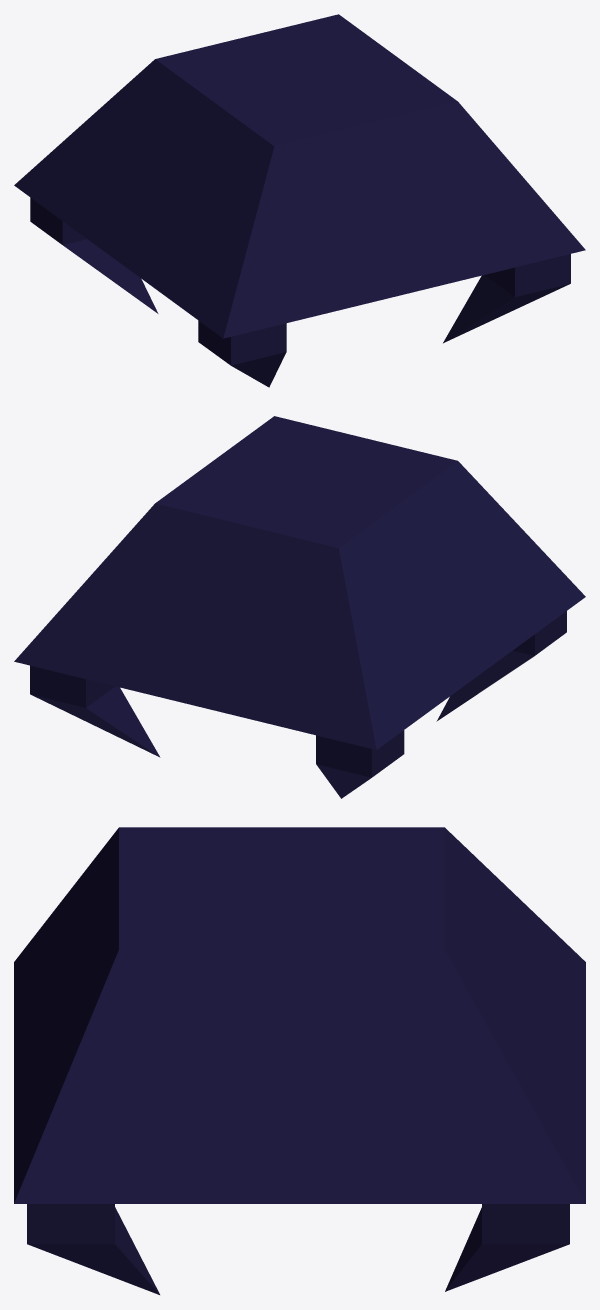
The model's file is drone-emitter.fbx.
3 renders of one model, top to bottom at view 1: azimuth 30°, elevation 25°; view 2: azimuth 150°, elevation 25°; view 3: azimuth 270°, elevation 25°, orthographic. The views are drawn at different scales.
Parts seen in each view (by area): view 1: shell, claw.001, claw, claw.002; view 2: shell, claw.003, claw.002, claw; view 3: shell, claw.001, claw.003.
Boxes of the visible parts, box(x1,y1,x2,y2) form: shell: box(14, 14, 585, 338); claw.001: box(443, 254, 570, 343); claw: box(198, 320, 286, 387); claw.002: box(30, 197, 158, 313); shell: box(14, 416, 585, 749); claw.003: box(30, 665, 160, 757); claw.002: box(316, 730, 404, 798); claw: box(436, 611, 566, 721); shell: box(14, 827, 585, 1203); claw.001: box(27, 1204, 159, 1294); claw.003: box(445, 1204, 569, 1291).
Size of the model in its own units: 43.48 by 43.48 by 29.01.
